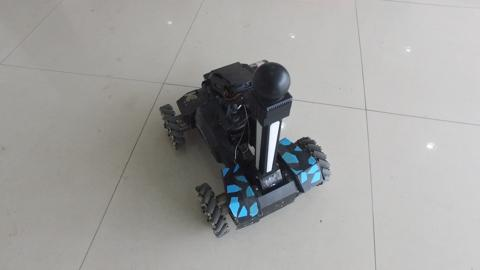chariot: (147, 46, 320, 238)
